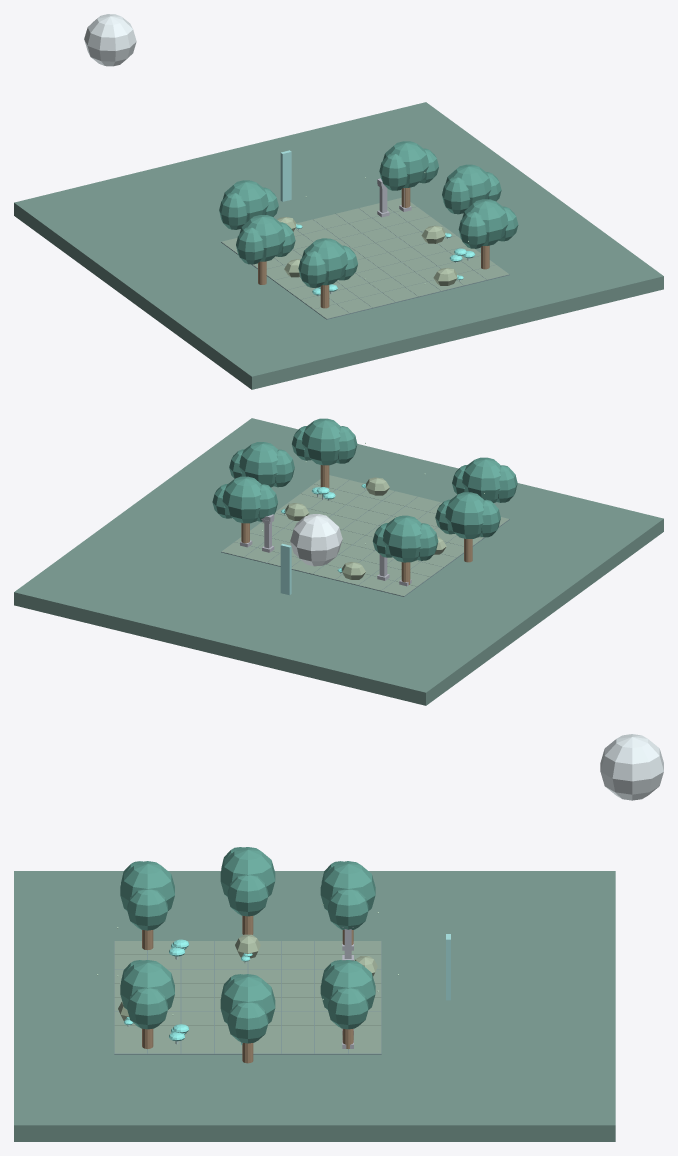
File: 02_Moon_Forest.glb
3 views of the same model, one above another, from view 1: azimuth 30°, elevation 25°; view 2: azimuth 150°, elevation 25°; view 3: azimuth 270°, elevation 25° (orthographic). The views are drawn at different scales.
Parts seen in each view (by area): view 1: forest_ground, Moon, Arena_Base, ancient_tree_75, ancient_tree_79, ancient_tree_83, ancient_tree_71, ancient_tree_87, ancient_tree_67, ancient_tree_85, ancient_tree_73, ancient_tree_77 (+4 smaller); view 2: forest_ground, Moon, ancient_tree_71, ancient_tree_79, ancient_tree_83, ancient_tree_67, ancient_tree_87, ancient_tree_75, Arena_Base, waterfall, ancient_tree_85, ancient_tree_69 (+4 smaller); view 3: forest_ground, Moon, ancient_tree_83, ancient_tree_67, ancient_tree_71, ancient_tree_75, ancient_tree_87, ancient_tree_79, Arena_Base, ancient_tree_76, ancient_tree_84, ancient_tree_80 (+3 smaller).
Part boxes in pixels (x1,y1,x2,y2): forest_ground: (14, 102, 663, 389); Moon: (84, 14, 136, 66); Arena_Base: (221, 206, 509, 319); ancient_tree_75: (302, 238, 347, 285); ancient_tree_79: (462, 199, 508, 245); ancient_tree_83: (239, 215, 285, 261); ancient_tree_71: (383, 141, 428, 187); ancient_tree_87: (445, 164, 491, 206); ancient_tree_67: (222, 180, 268, 222); ancient_tree_85: (236, 227, 263, 264); ancient_tree_73: (379, 153, 407, 190); ancient_tree_77: (298, 251, 326, 287); forest_ground: (14, 418, 663, 705); Moon: (290, 514, 342, 566); ancient_tree_71: (222, 476, 261, 523); ancient_tree_79: (302, 418, 340, 465); ancient_tree_83: (445, 492, 484, 538); ancient_tree_67: (383, 515, 421, 562); ancient_tree_87: (239, 442, 278, 487); ancient_tree_75: (462, 457, 500, 502); Arena_Base: (221, 480, 509, 596); waterfall: (280, 543, 291, 595); ancient_tree_85: (479, 499, 500, 537); ancient_tree_69: (417, 523, 438, 560); forest_ground: (14, 871, 615, 1141); Moon: (600, 734, 663, 800); ancient_tree_83: (220, 847, 275, 896); ancient_tree_67: (320, 861, 375, 910); ancient_tree_71: (320, 960, 375, 1009); ancient_tree_75: (120, 861, 174, 910); ancient_tree_87: (220, 974, 275, 1023); ancient_tree_79: (120, 960, 174, 1009); Arena_Base: (114, 941, 381, 1054); ancient_tree_76: (127, 889, 167, 930); ancient_tree_84: (227, 875, 268, 916); ancient_tree_80: (127, 988, 167, 1029).
Size of the model in its own units: 36 by 14.15 by 38.9.
